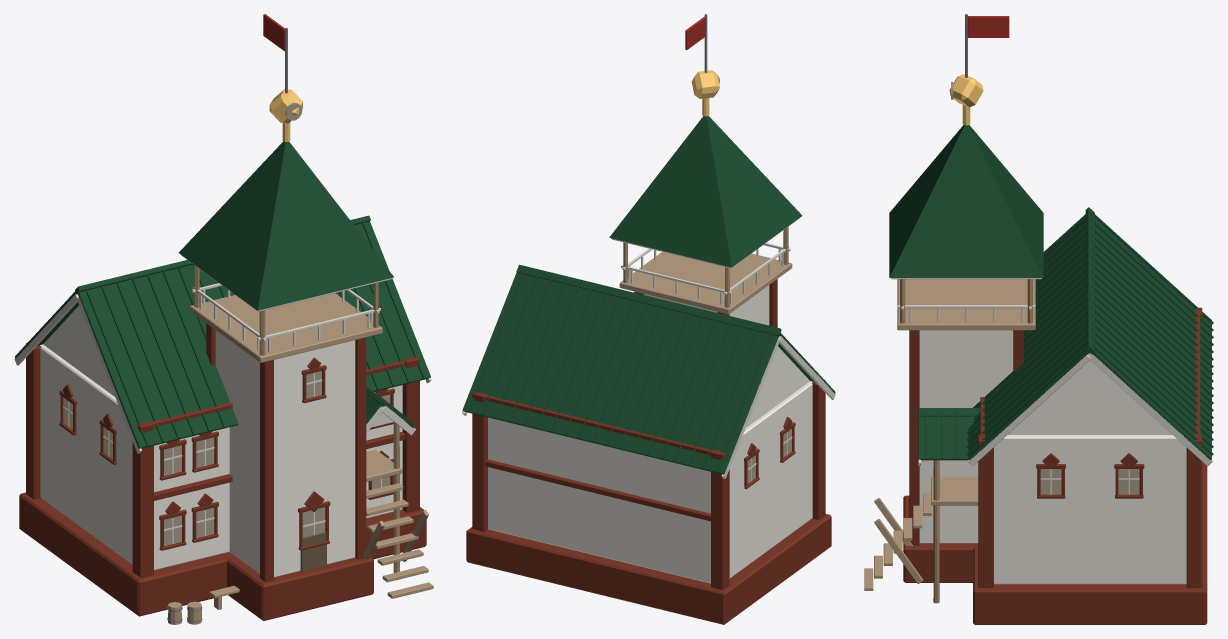
The model's file is bld_townhall_e2.glb.
The picture shows the model from 3 angles, left to right: view 1: azimuth 30°, elevation 25°; view 2: azimuth 150°, elevation 25°; view 3: azimuth 270°, elevation 25°; orthographic projection. The views are drawn at different scales.
Parts seen in each view (by area): view 1: townhall; view 2: townhall; view 3: townhall.
Boxes of the visible parts, x1,y1,x2,y2 form: townhall: [14, 14, 433, 624]; townhall: [462, 14, 835, 624]; townhall: [864, 14, 1213, 624].
Bounding box in the file's own units: 2.52 × 4.6 × 2.68.
